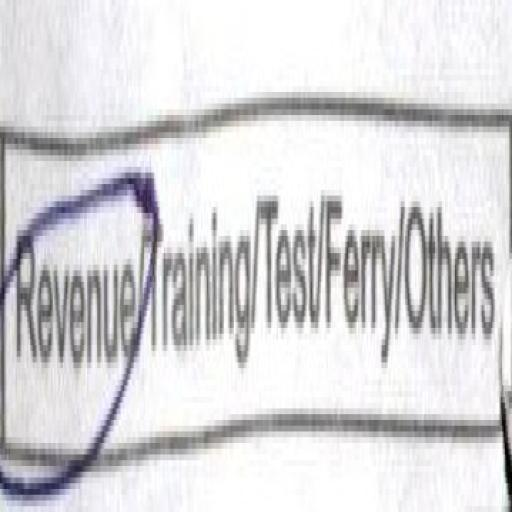check: (0, 109, 140, 501)
